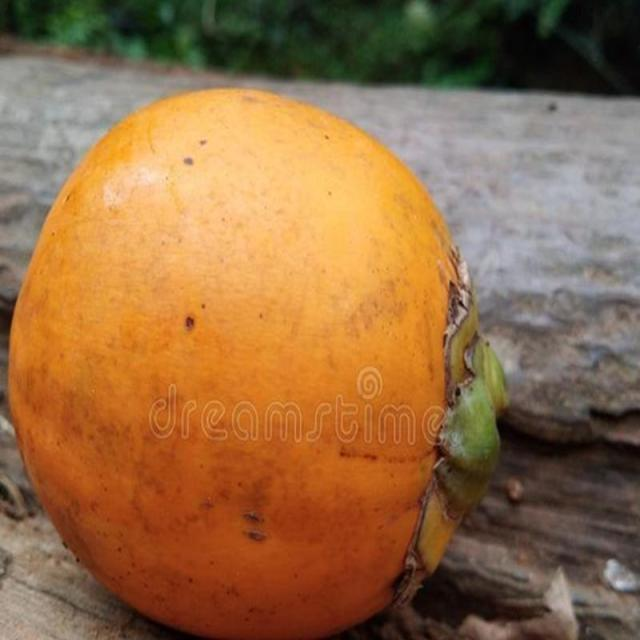good: (6, 89, 506, 639)
